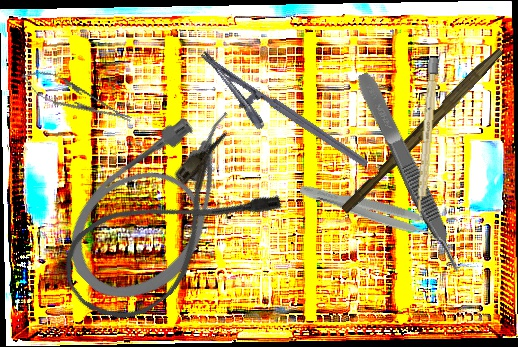Cannula: (44, 83, 283, 325), (46, 126, 288, 341)
Needle Holder: (184, 49, 370, 191), (17, 63, 136, 133)
Scalpel Handle: (339, 42, 505, 218), (415, 56, 439, 218)
Tissue Forceps: (353, 69, 466, 277), (296, 179, 445, 245)
